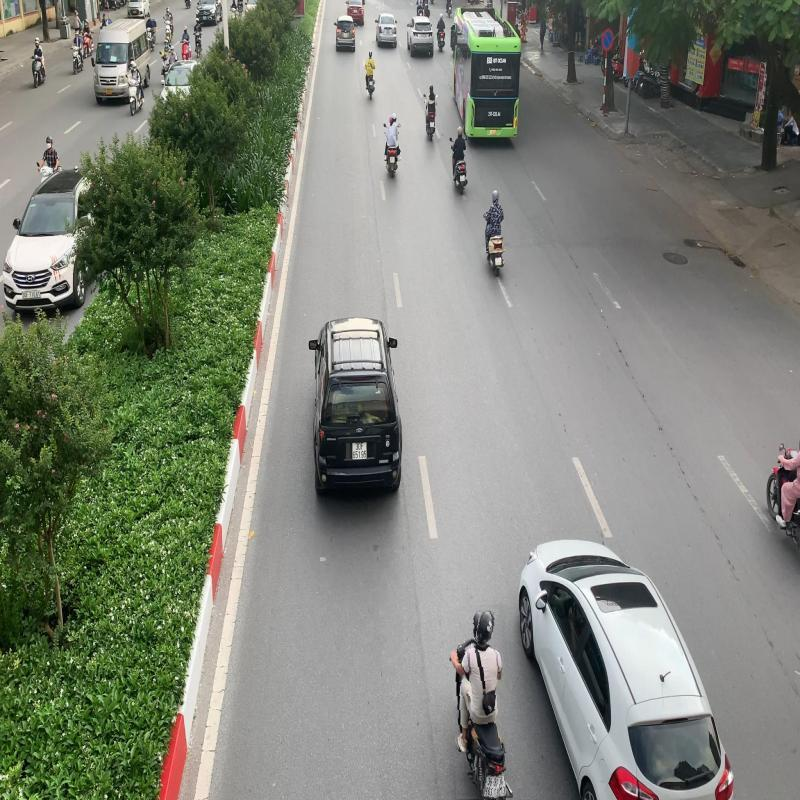helmet: (476, 608, 497, 642)
licenseplate: (484, 773, 501, 799)
motorcyclist: (446, 604, 514, 800)
